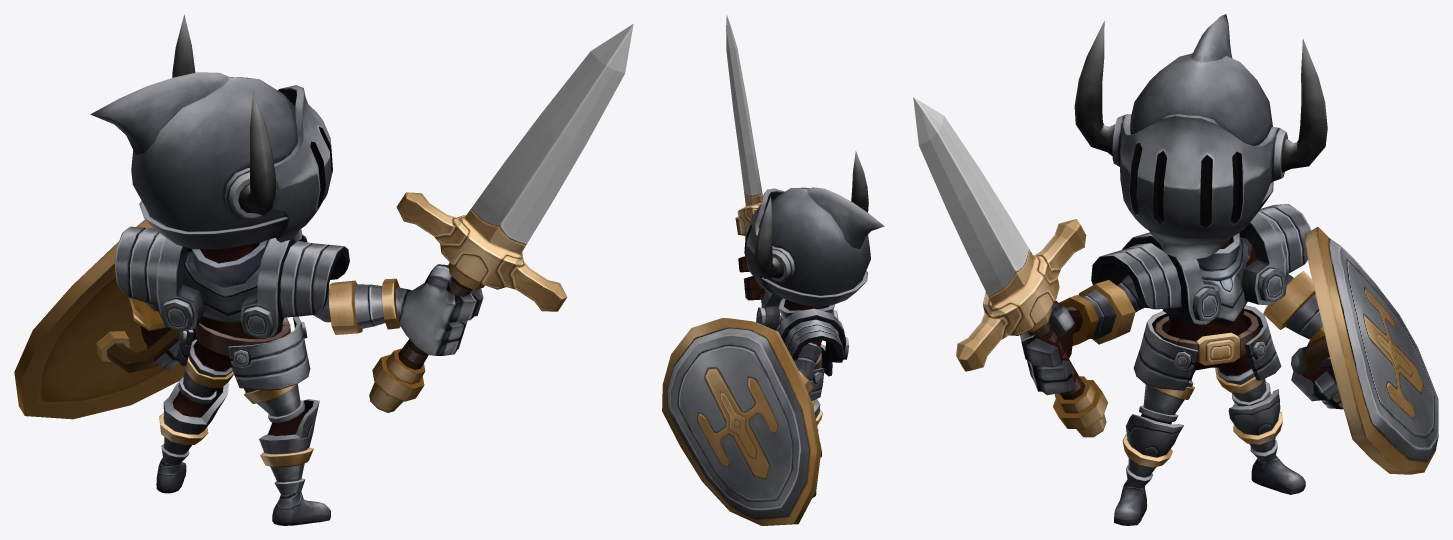
The model's file is Knight.fbx.
3 views of the same model, side by side, from view 1: azimuth 30°, elevation 25°; view 2: azimuth 150°, elevation 25°; view 3: azimuth 270°, elevation 25° (orthographic). The views are drawn at different scales.
Parts seen in each view (by area): view 1: Object012, Weapon_Sword002, Object001; view 2: Object001, Object012, Weapon_Sword002; view 3: Object012, Object001, Weapon_Sword002.
Part boxes in pixels (x1,y1,x2,y2): Object012: (90, 14, 483, 525); Weapon_Sword002: (369, 24, 633, 412); Object001: (14, 219, 269, 419); Object001: (662, 318, 821, 525); Object012: (738, 151, 884, 497); Weapon_Sword002: (726, 14, 781, 321); Object012: (1020, 14, 1343, 525); Object001: (1301, 227, 1438, 474); Weapon_Sword002: (913, 97, 1107, 437).
Size of the model in its own units: 90.61 by 115 by 104.
1 material, 1 textured.
